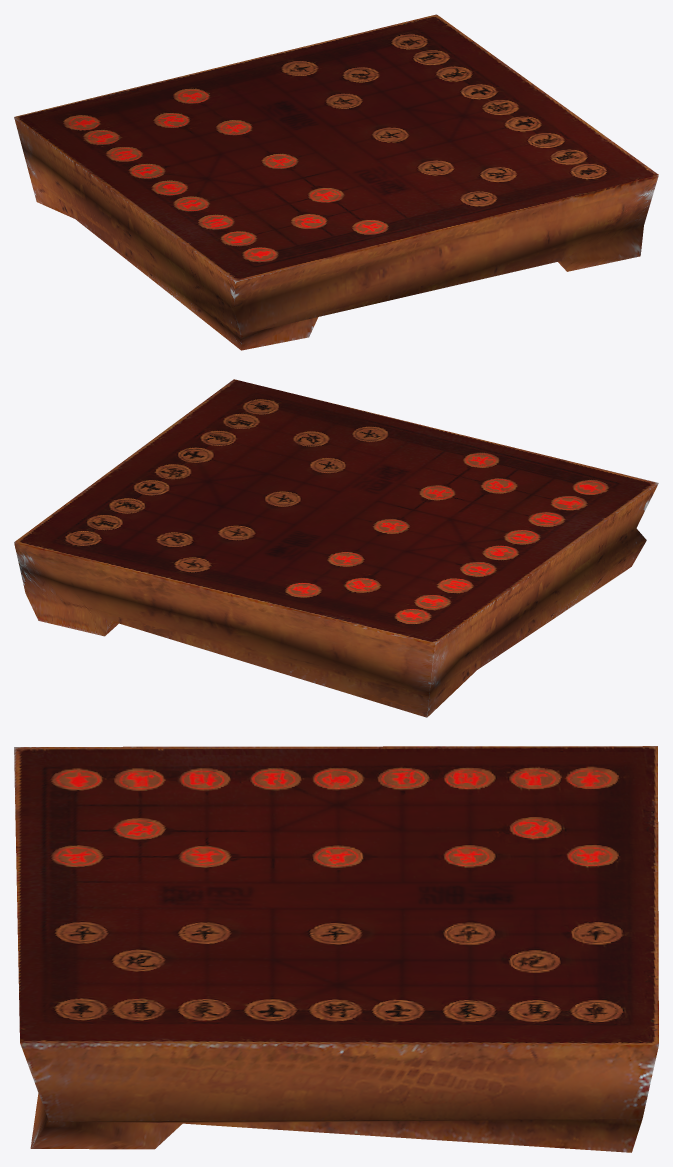
The picture shows the model from 3 angles, top to bottom: view 1: azimuth 30°, elevation 25°; view 2: azimuth 150°, elevation 25°; view 3: azimuth 270°, elevation 25°; orthographic projection. The views are drawn at different scales.
Visible parts, largest first — view 1: pMesh1; view 2: pMesh1; view 3: pMesh1.
Part boxes in pixels (bbox=[...]): pMesh1: bbox=[14, 14, 658, 350]; pMesh1: bbox=[14, 379, 658, 717]; pMesh1: bbox=[14, 746, 658, 1152].
Bounding box in the file's own units: 115 × 22.12 × 104.
Materials: 1 (1 with a texture image).
